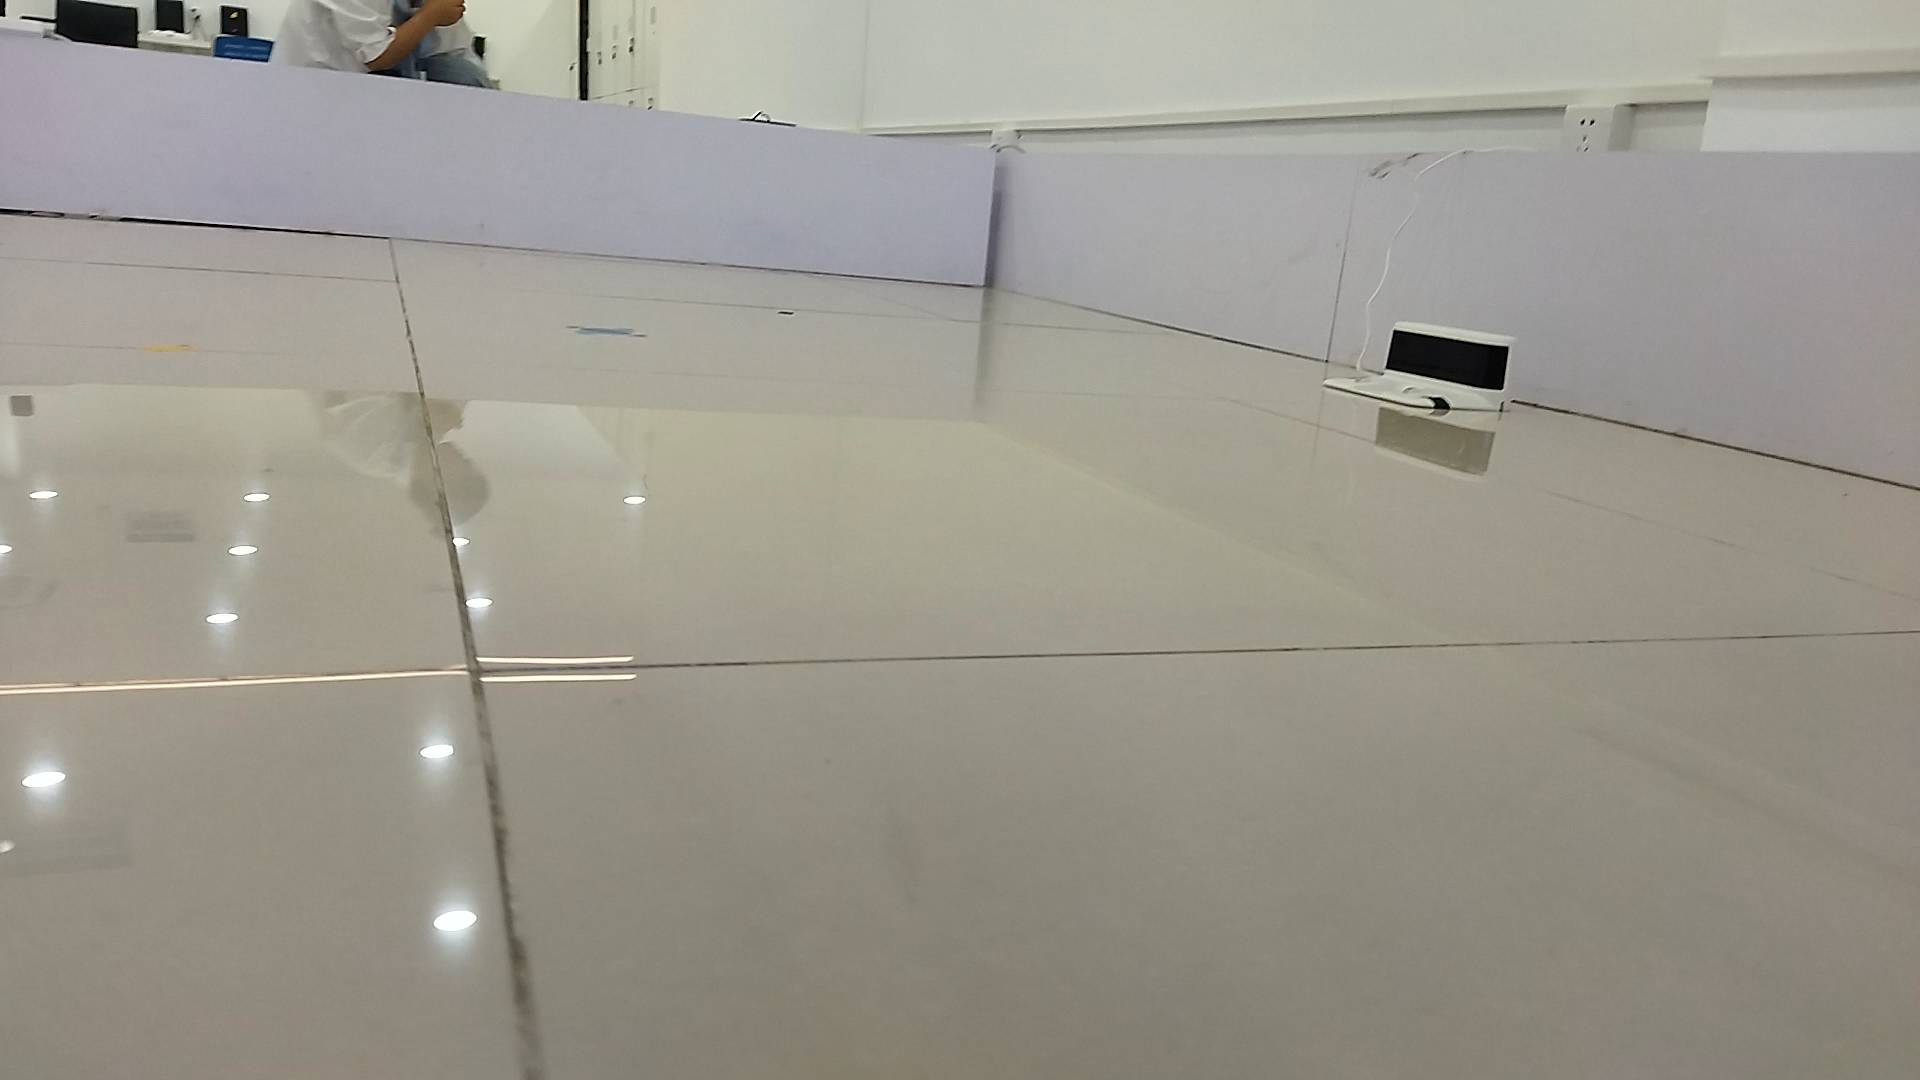recharge seat: (1323, 318, 1518, 413)
